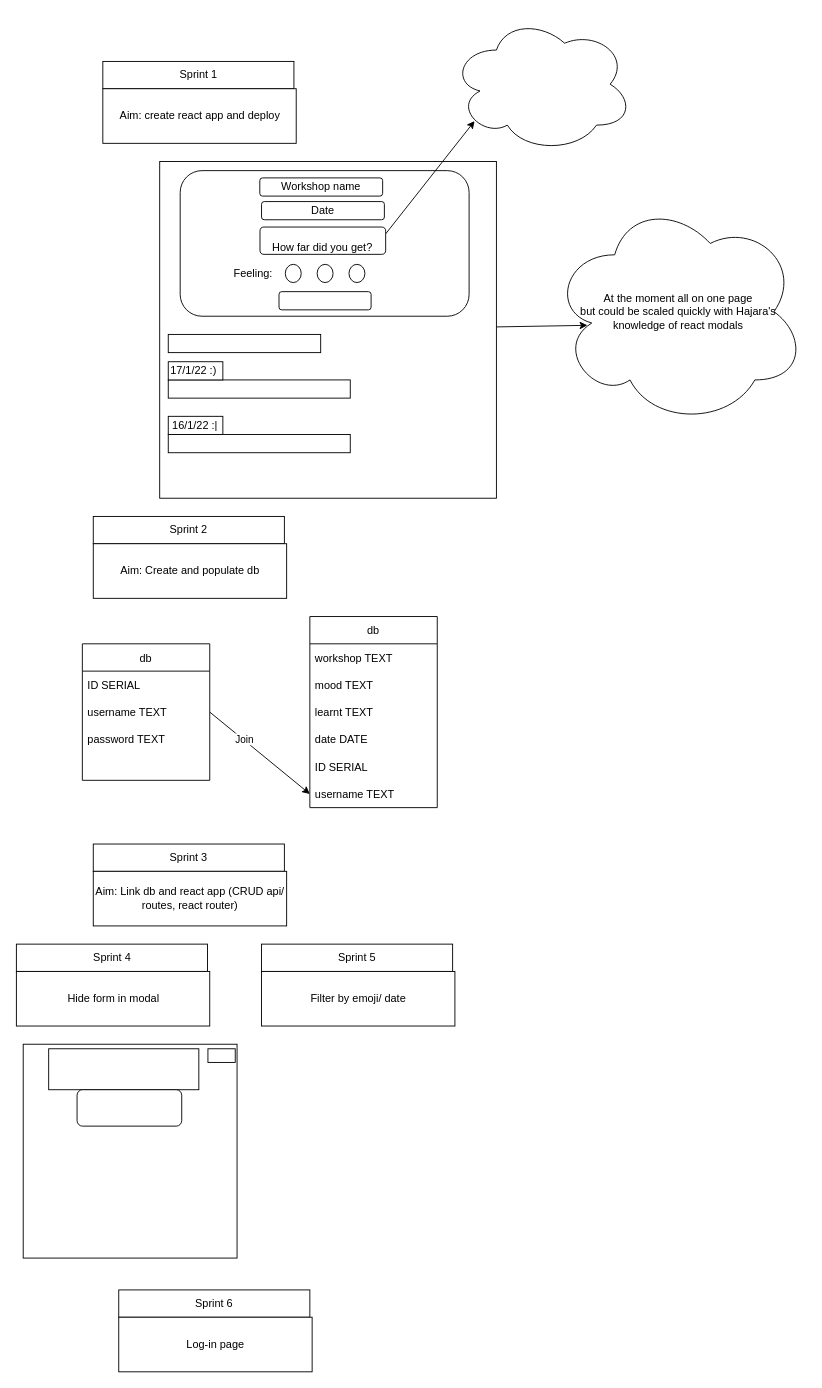
This 822x1388 diagram has some shape labels left out. Each missing label, with the centre of its shape:
"Add task" goes at point 129,1107.
"Asma leaning towards percentage complete 0 -25- 50- 100 instead of qual question" goes at point 541,83.
"Hi, user! How was your day?" goes at point 123,1069.
"submit" goes at point 324,300.
"User, your journey at a glance" goes at point 244,343.
